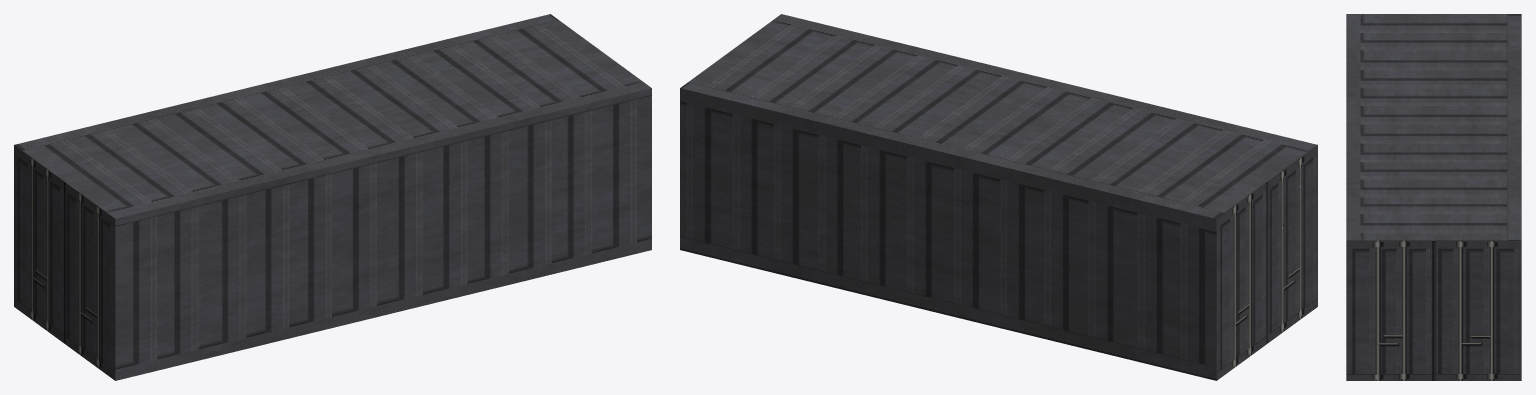
The model's file is Shipping Container Template.glb.
The picture shows the model from 3 angles, left to right: view 1: azimuth 30°, elevation 25°; view 2: azimuth 150°, elevation 25°; view 3: azimuth 270°, elevation 25°; orthographic projection. The views are drawn at different scales.
Parts seen in each view (by area): view 1: Container; view 2: Container; view 3: Container.
Boxes of the visible parts, x1,y1,x2,y2 form: Container: [14, 14, 651, 380]; Container: [680, 14, 1317, 380]; Container: [1346, 14, 1521, 380].
Size of the model in its own units: 10.4 by 3 by 3.4.
2 materials, 2 textured.
